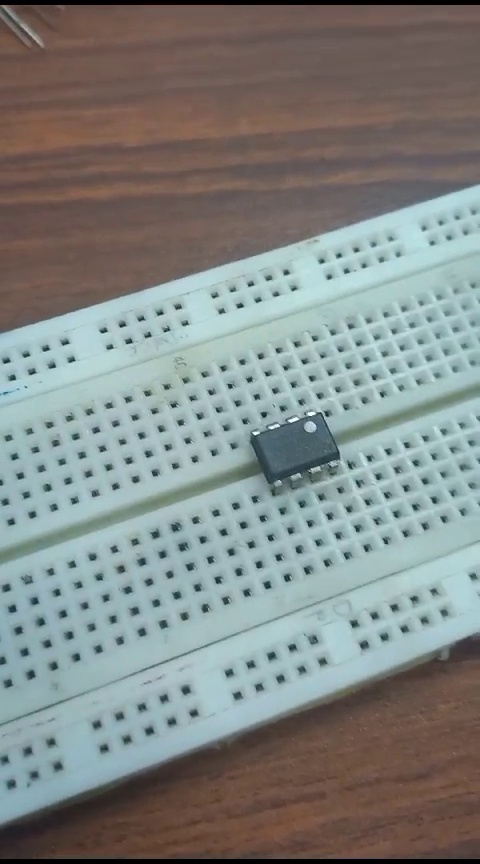IC: (250, 408, 353, 499)
